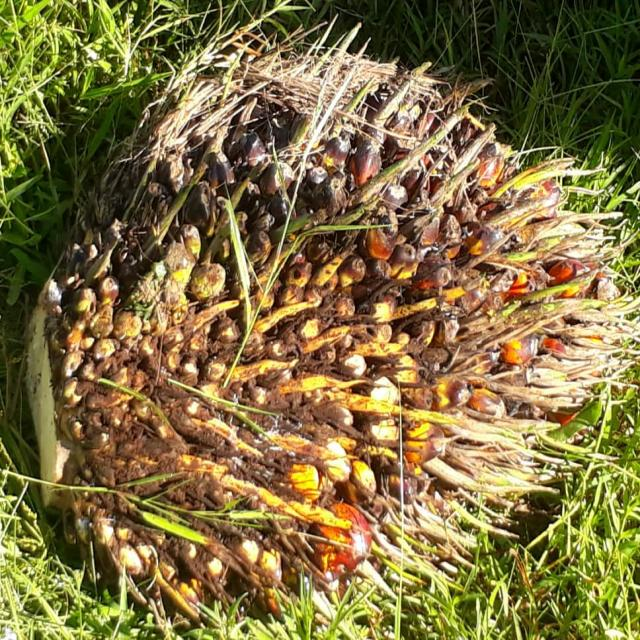FFB: (36, 46, 616, 614)
